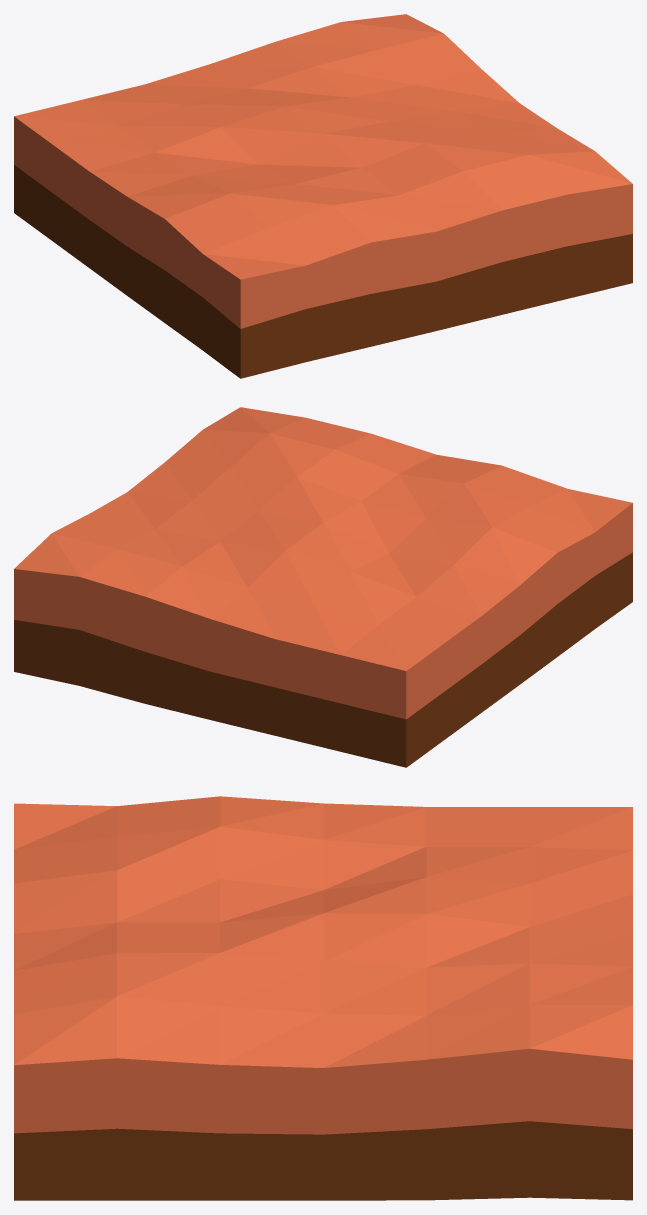
Rendered from Test_tile2.fbx.
3 views of the same model, one above another, from view 1: azimuth 30°, elevation 25°; view 2: azimuth 150°, elevation 25°; view 3: azimuth 270°, elevation 25° (orthographic). The views are drawn at different scales.
Parts seen in each view (by area): view 1: tile_base; view 2: tile_base; view 3: tile_base.
Boxes of the visible parts, left/top/right/bottom form: tile_base: left=14, top=14, right=632, bottom=378; tile_base: left=14, top=407, right=632, bottom=767; tile_base: left=14, top=796, right=632, bottom=1200.
Bounding box in the file's own units: 40 × 11.39 × 40.
